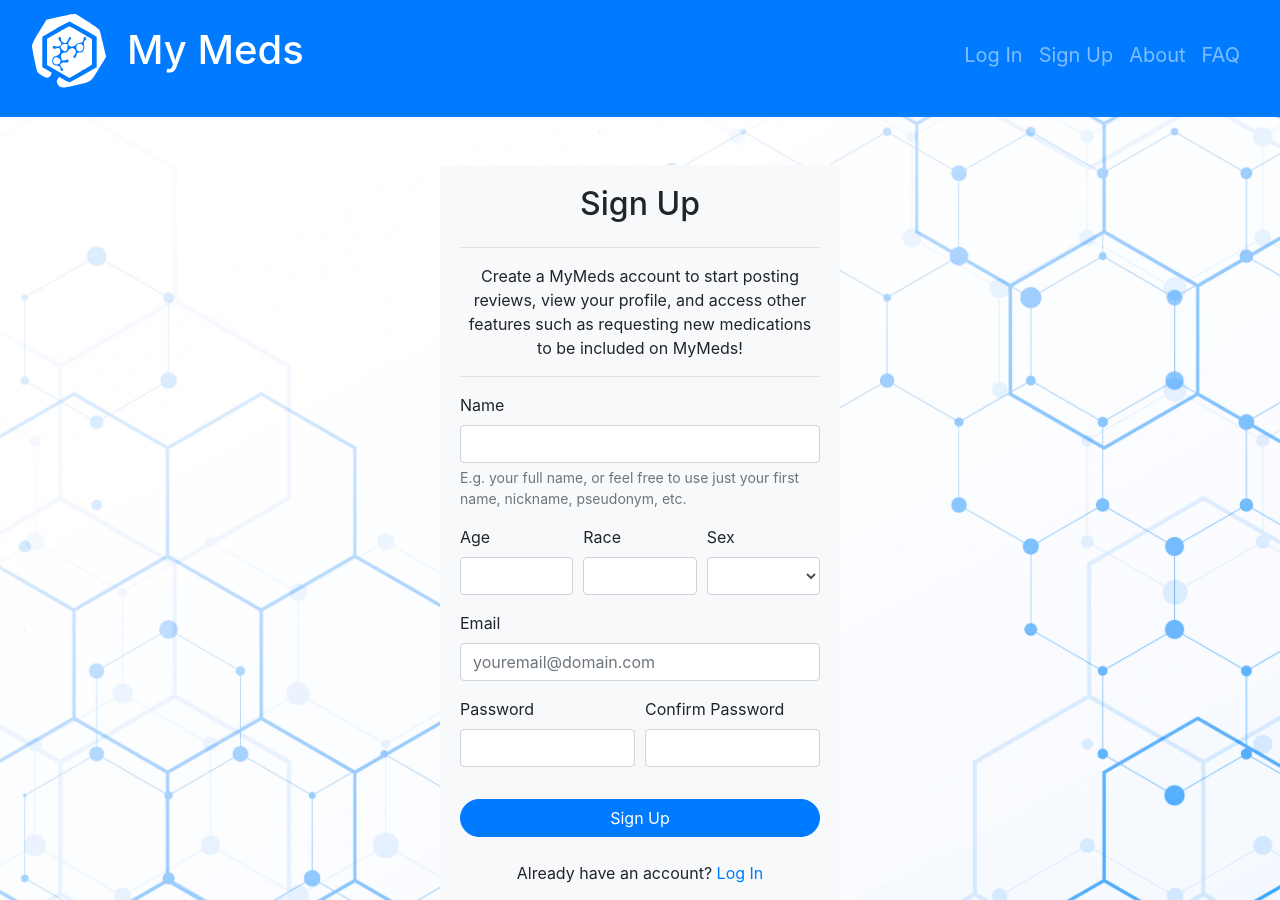
Scenario: Button disabled when password is not long enough
Type "tset" into the password field with test id "pass-input".
click(548, 748); type("tset")  # box [460,729,635,767]
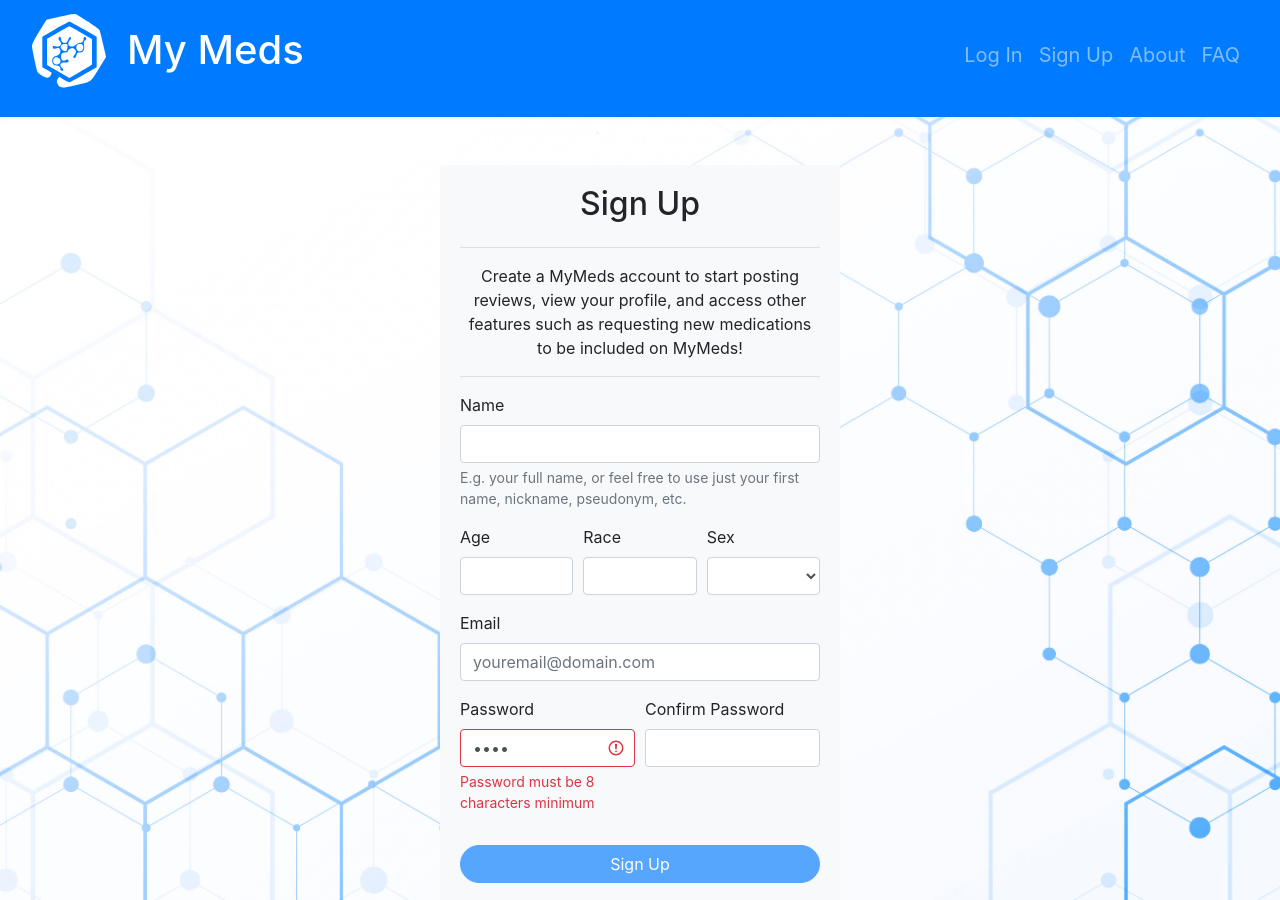
Result: the button with test id "button" is disabled at [460,845,820,883]
